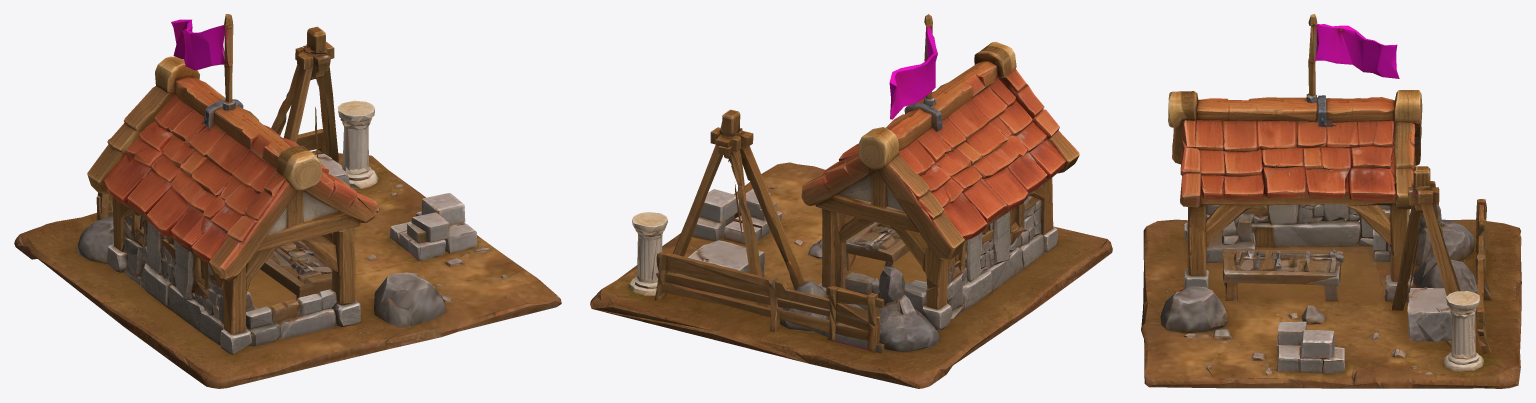
Rendered from stonemason.glb.
The picture shows the model from 3 angles, left to right: view 1: azimuth 30°, elevation 25°; view 2: azimuth 150°, elevation 25°; view 3: azimuth 270°, elevation 25°; orthographic projection. The views are drawn at different scales.
Visible parts, largest first — view 1: Mesh_0; view 2: Mesh_0; view 3: Mesh_0.
Part boxes in pixels (<box>): Mesh_0: <box>14,14,561,388</box>; Mesh_0: <box>590,14,1112,388</box>; Mesh_0: <box>1141,14,1521,388</box>.
Bounding box in the file's own units: 1.89 × 1.44 × 1.89.
1 material, 1 textured.
